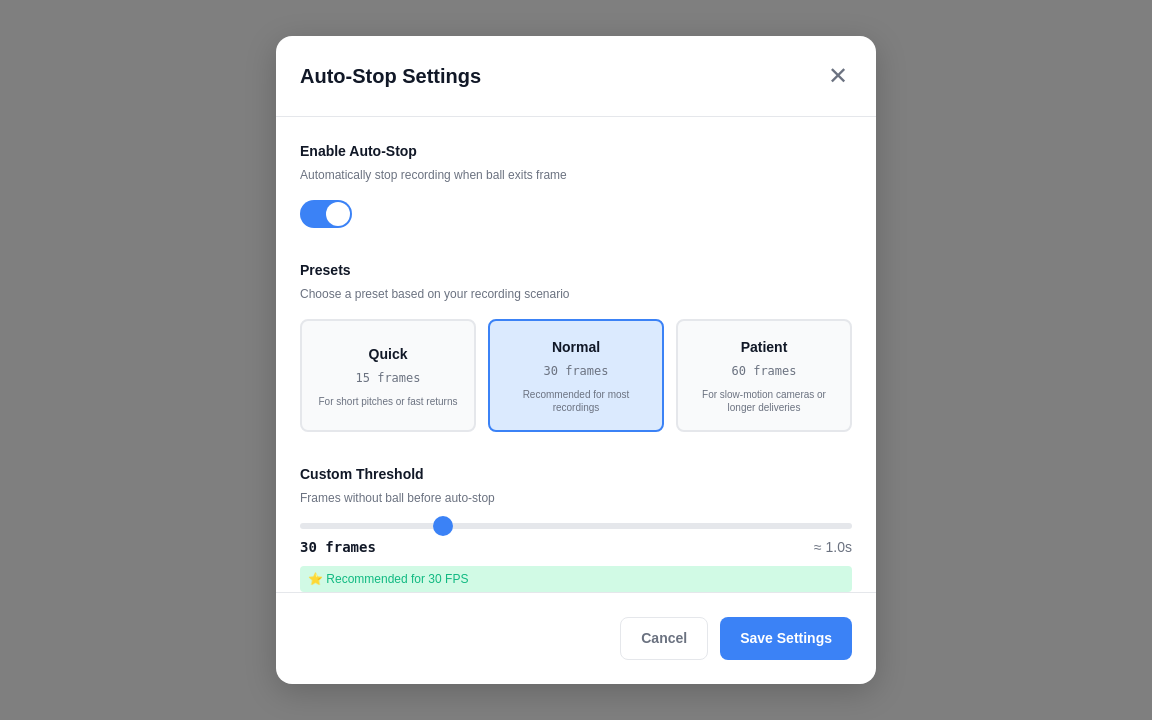
Scenario: AutoStopSettings › Custom Slider › updates threshold value
Set the slider to "45" at (542,526), box [300, 523, 852, 529]
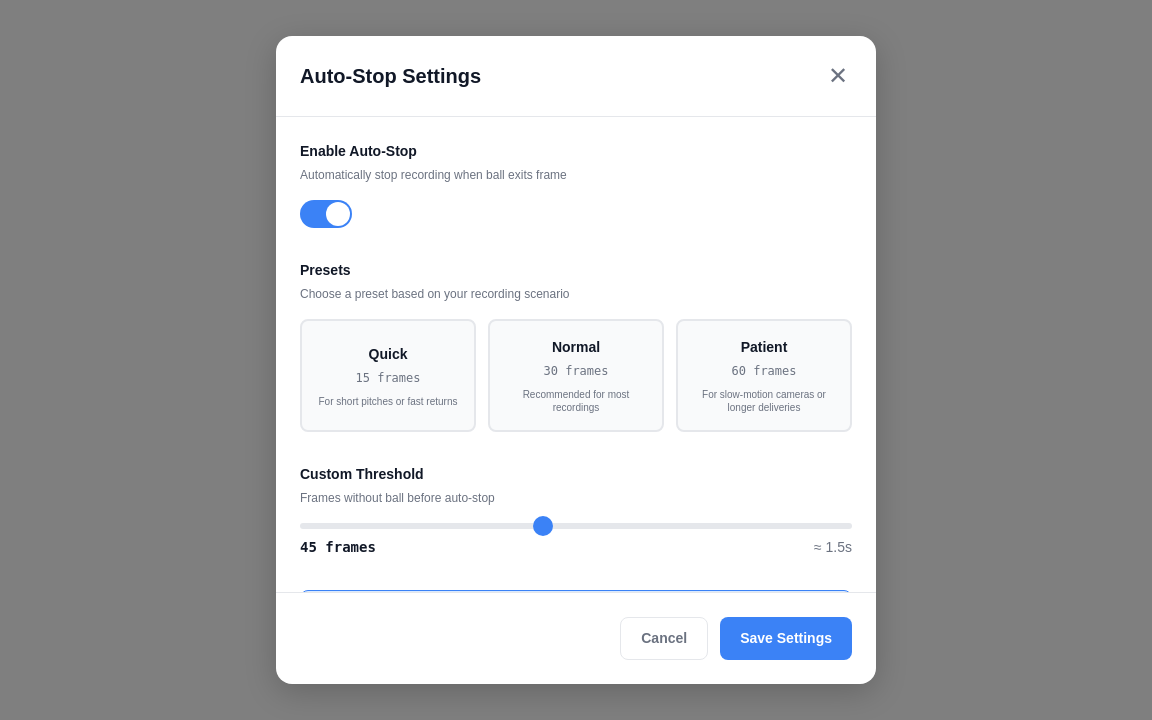
Expected: the text "45 frames" is shown, [300, 537, 376, 558]
